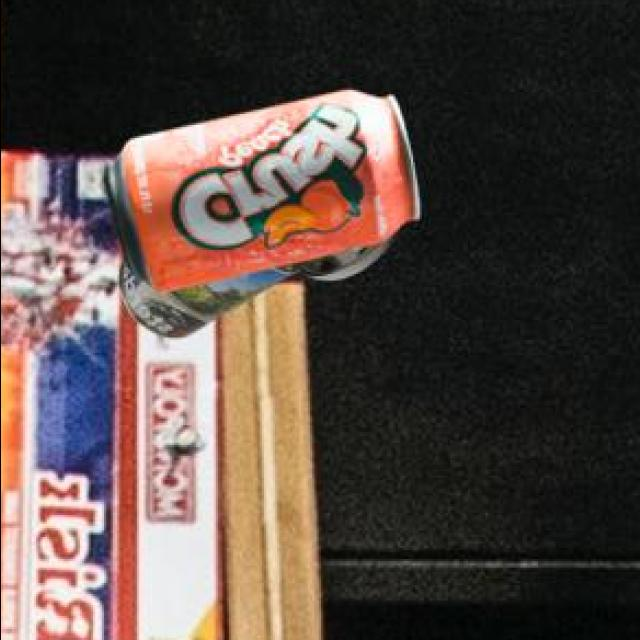logam: (106, 93, 422, 295), (122, 237, 398, 341)
